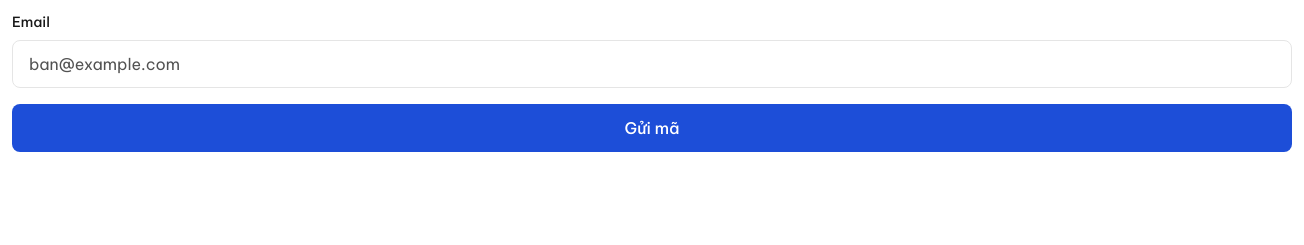
Scenario: OtpSignInForm › chỉ cho gửi lại mã sau khi đếm ngược xong
The image size is (1304, 245).
Type "sv@example.com" into the field labelled "Email". click: (652, 64)
box: [12, 40, 1292, 88]
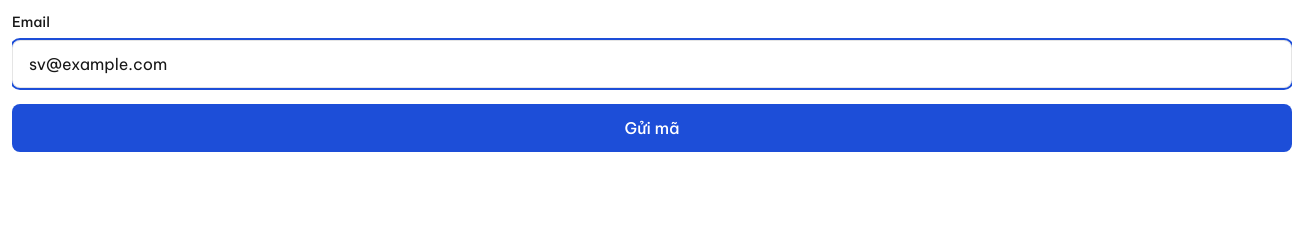
Click the button "Gửi mã". click: (652, 128)
box: [12, 104, 1292, 152]
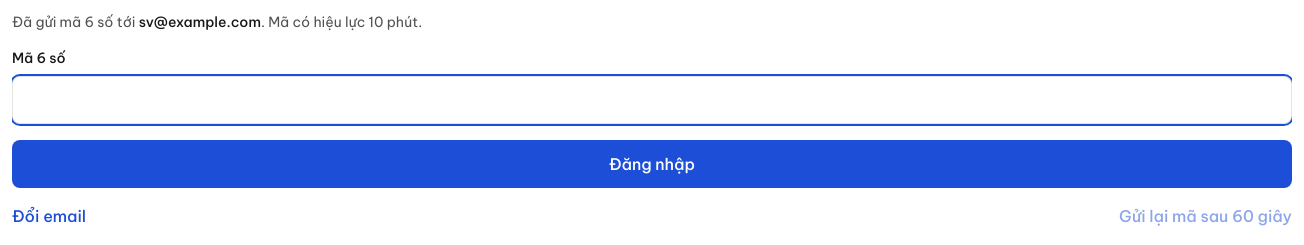
Expected: the button "Gửi lại mã sau 60 giây" is disabled, [1119, 204, 1292, 228]
